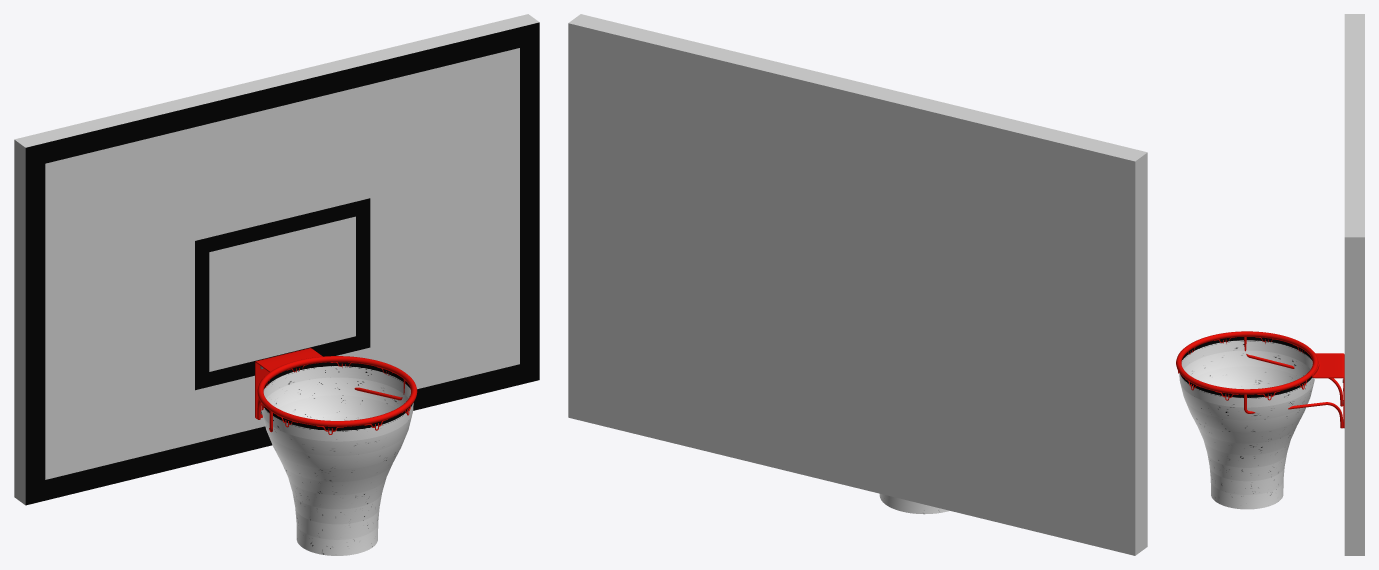
The model's file is Basket.fbx.
3 renders of one model, left to right at view 1: azimuth 30°, elevation 25°; view 2: azimuth 150°, elevation 25°; view 3: azimuth 270°, elevation 25°, orthographic. The views are drawn at different scales.
Visible parts, largest first — view 1: Board, Net, Rim; view 2: Board; view 3: Net, Board, Rim.
Part boxes in pixels (x1,y1,x2,y2): Board: (14, 14, 539, 505); Net: (261, 362, 413, 555); Rim: (255, 348, 417, 434); Board: (568, 14, 1147, 555); Net: (1179, 337, 1314, 509); Board: (1344, 14, 1364, 555); Rim: (1176, 331, 1344, 428).
Size of the model in its own units: 1.82 by 1.4 by 0.6501.
